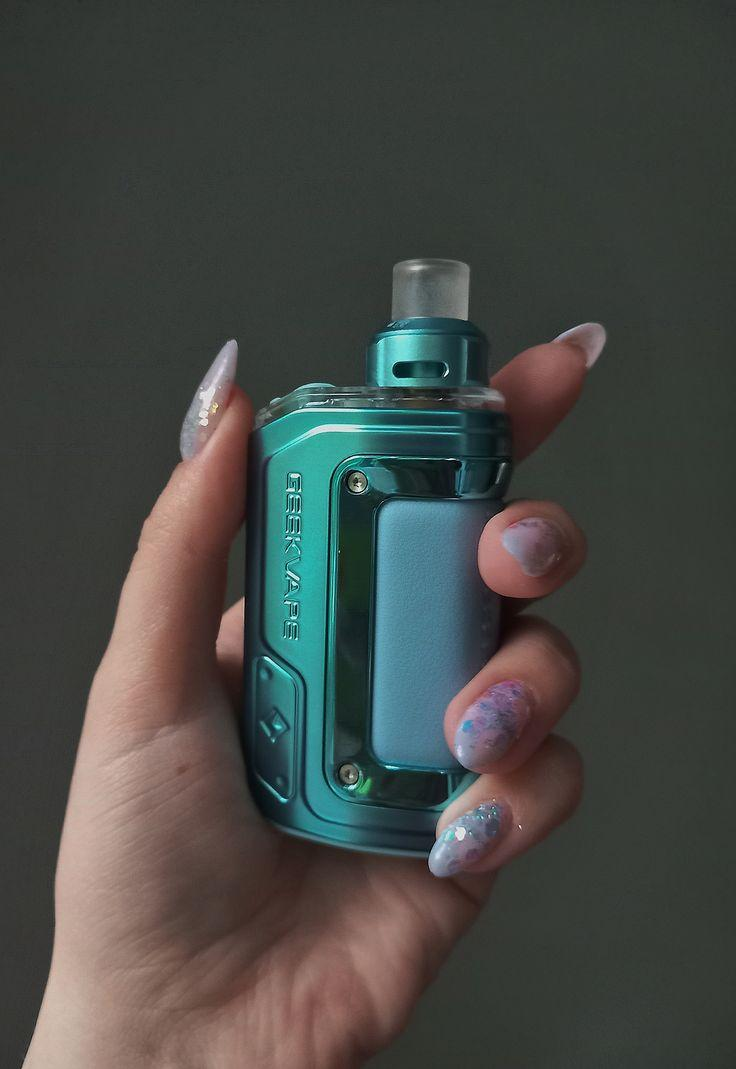Vape: (242, 258, 512, 859)
